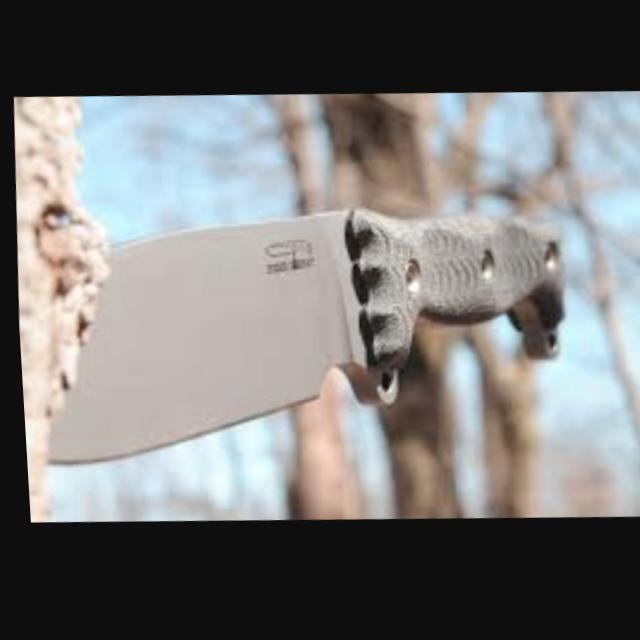Knife: (26, 188, 572, 481)
